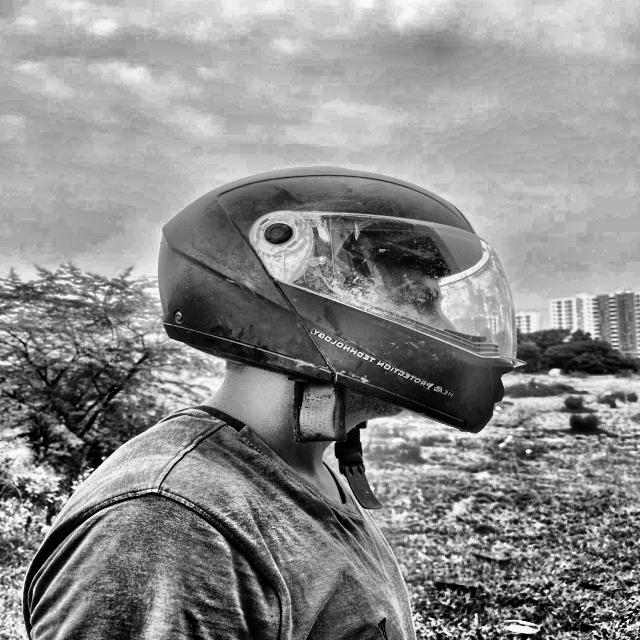Helmet: (127, 167, 515, 459)
